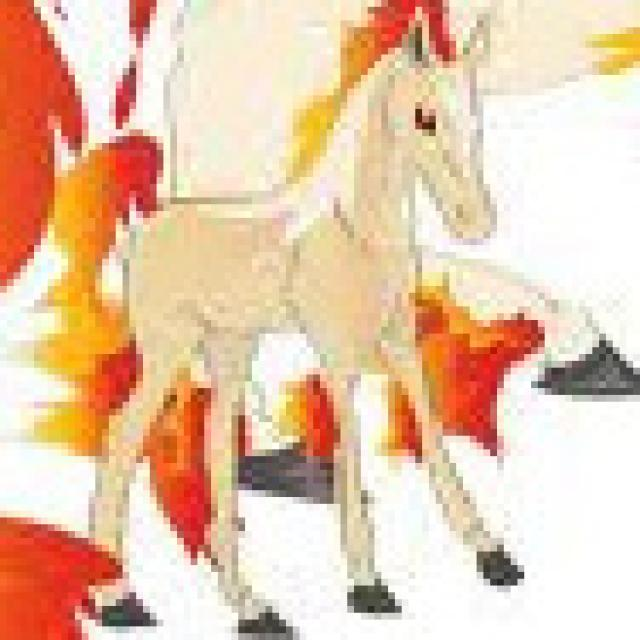Ponyta: (74, 19, 512, 625)
